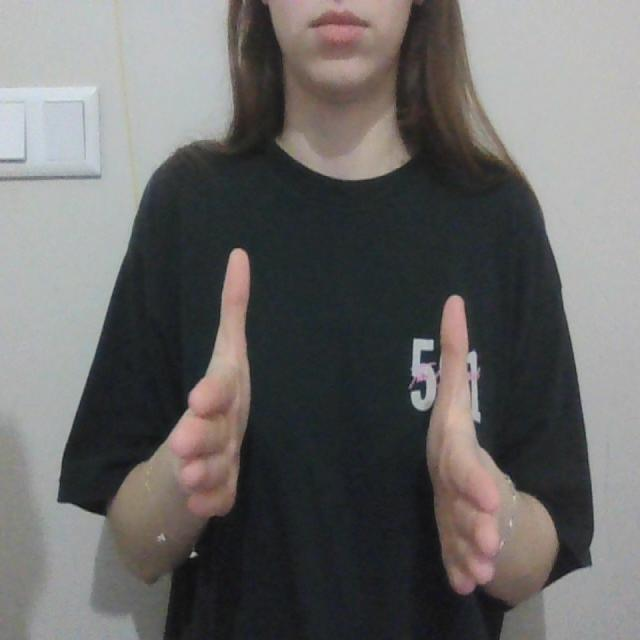Nasil: (167, 249, 521, 602)
